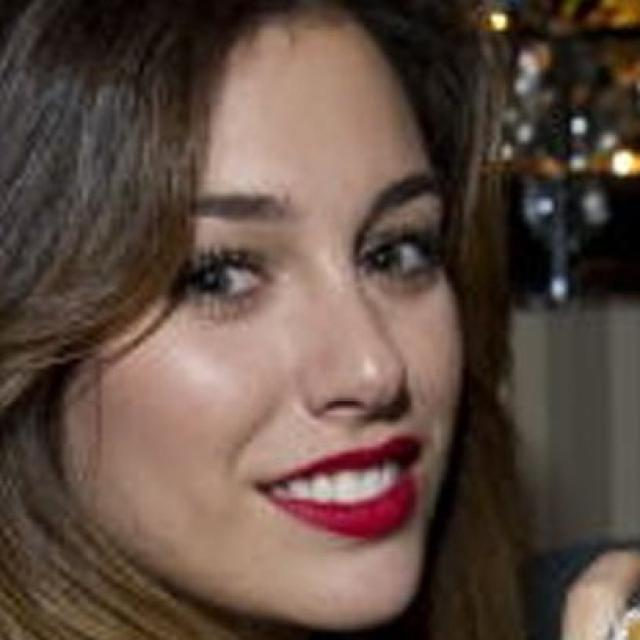Normal: (56, 9, 466, 627)
